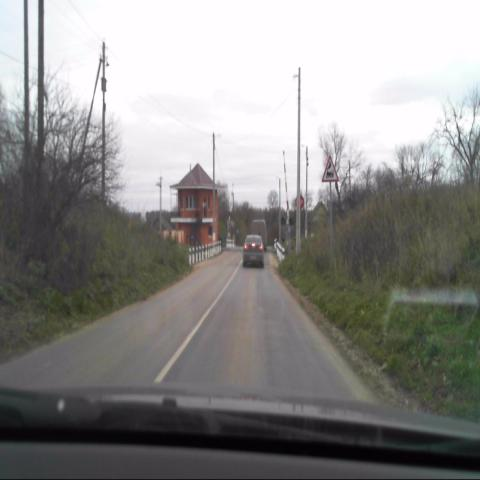1_2: (322, 154, 338, 181)
